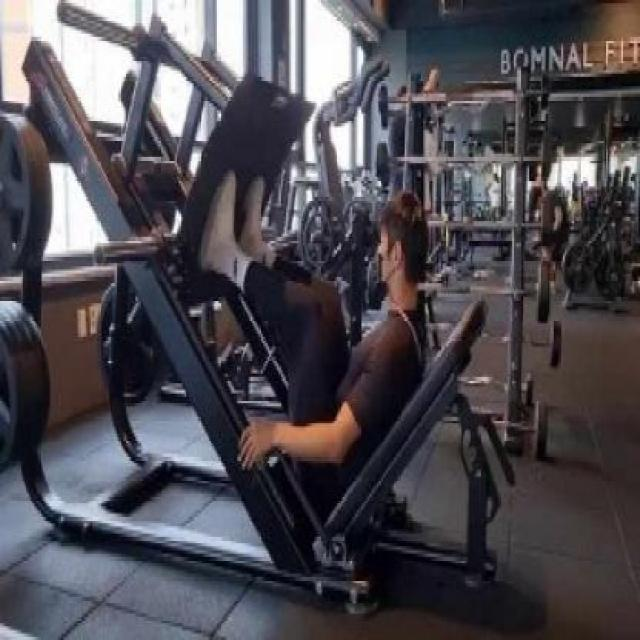leg press: (9, 0, 531, 640)
